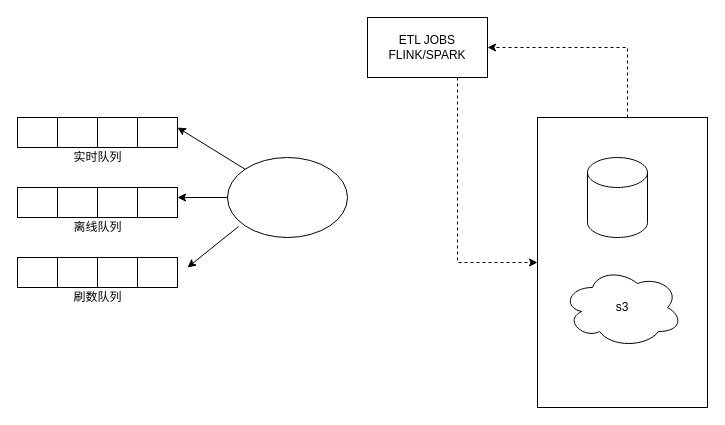
This 725x425 diagram has some shape labels left out. Each missing label, with the box of its shape:
hdfs: (586, 156, 648, 238)
job dispatch service: (226, 156, 348, 238)
